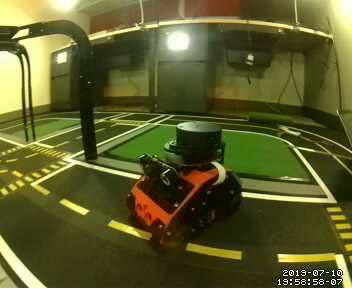pheeno: (126, 119, 244, 248)
